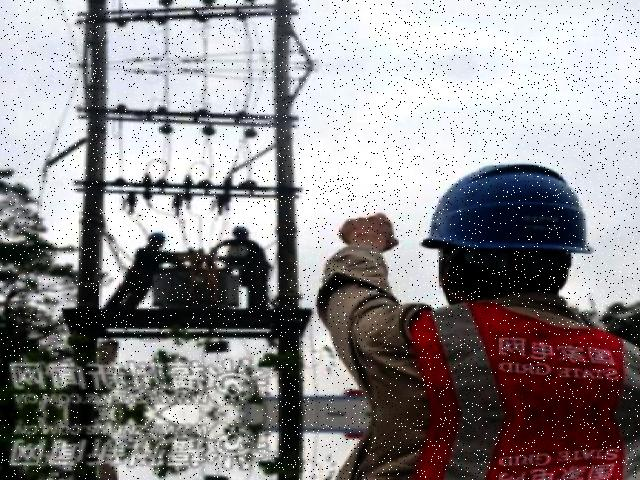Helmet: (413, 156, 604, 272)
